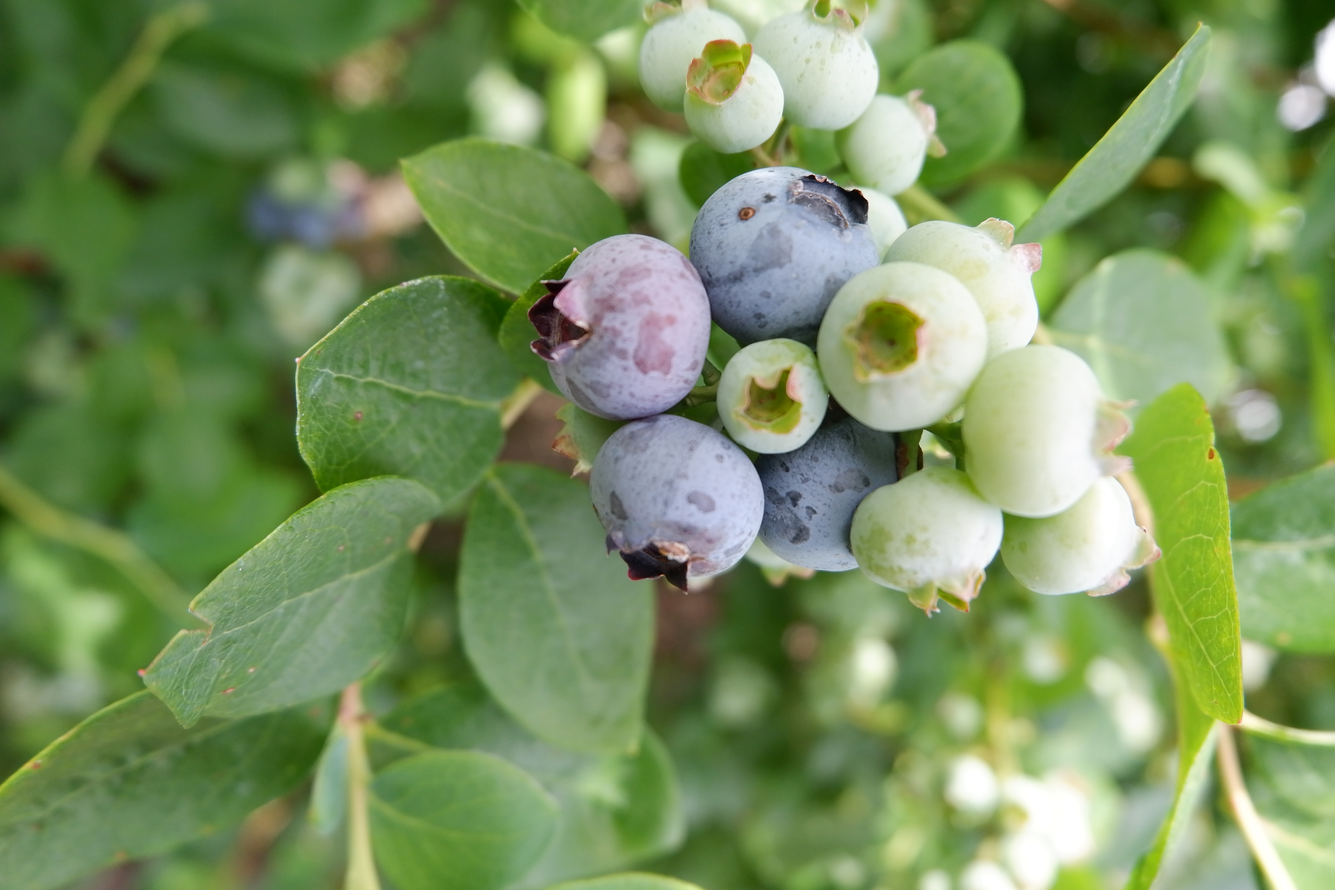Immature: (963, 351, 1132, 514), (818, 266, 986, 429), (851, 469, 1004, 614), (888, 219, 1041, 353), (1005, 481, 1136, 593), (758, 8, 876, 129), (719, 341, 828, 451), (639, 8, 744, 108), (841, 95, 942, 191), (685, 48, 780, 150), (554, 407, 622, 476), (846, 188, 906, 258)
Mature: (694, 170, 881, 341), (535, 236, 707, 416), (593, 419, 762, 583), (759, 412, 901, 568)
